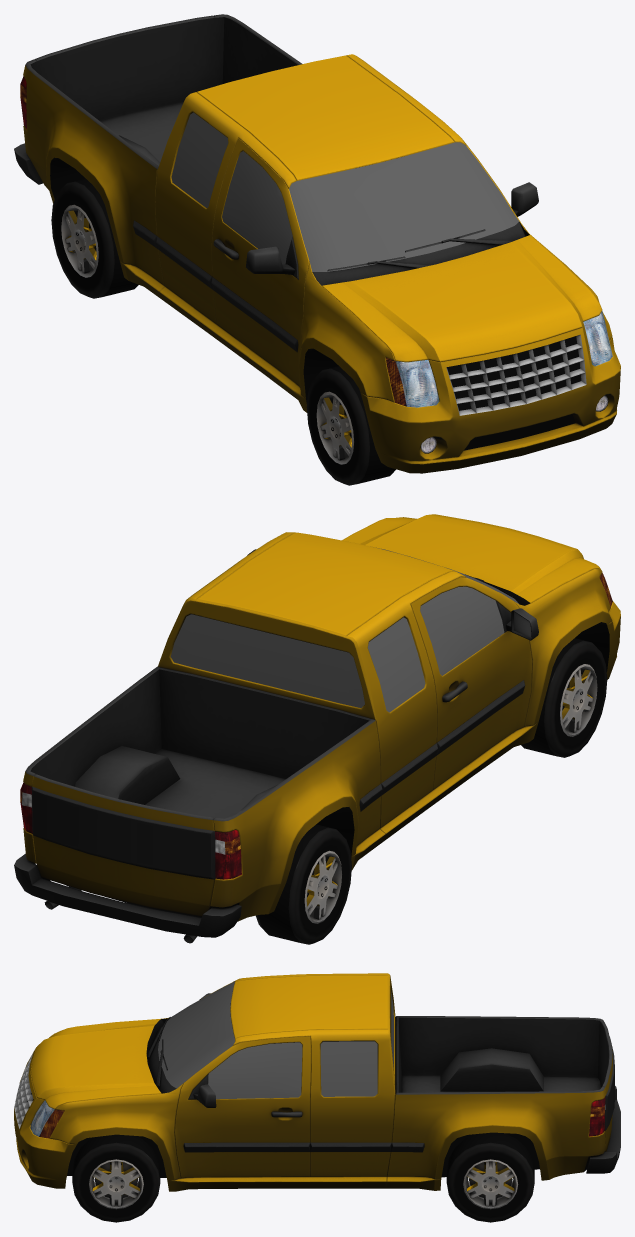
Rendered from Pickup.glb.
3 views of the same model, one above another, from view 1: azimuth 30°, elevation 25°; view 2: azimuth 150°, elevation 25°; view 3: azimuth 270°, elevation 25° (orthographic). The views are drawn at different scales.
Visible parts, largest first — view 1: Pickup Body, Wheel_E002, Wheel_E003; view 2: Pickup Body, Wheel_E003, Wheel_E002; view 3: Pickup Body, Wheel_E001, Wheel_E.
Boxes of the visible parts, left/top/right/bottom form: Pickup Body: left=14, top=14, right=620, bottom=473; Wheel_E002: left=306, top=366, right=395, bottom=485; Wheel_E003: left=51, top=178, right=138, bottom=298; Pickup Body: left=14, top=514, right=620, bottom=943; Wheel_E003: left=256, top=824, right=351, bottom=944; Wheel_E002: left=521, top=638, right=607, bottom=757; Pickup Body: left=14, top=973, right=620, bottom=1191; Wheel_E001: left=446, top=1132, right=534, bottom=1222; Wheel_E: left=72, top=1134, right=160, bottom=1222.
Bounding box in the file's own units: 2.33 × 1.91 × 5.83.
4 materials, 3 textured.
